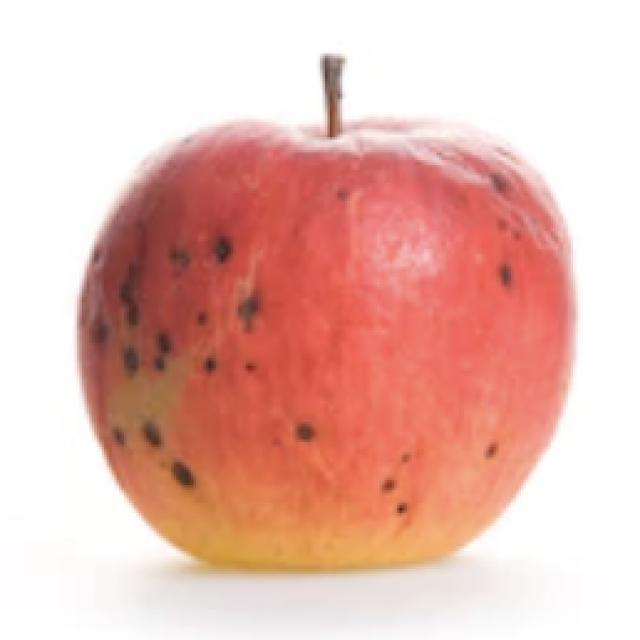Rotten: (73, 106, 579, 574)
